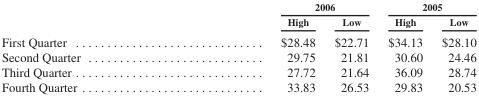table: (0, 0, 475, 93)
table column: (0, 0, 179, 93), (179, 0, 324, 93), (377, 0, 431, 93), (324, 0, 377, 93), (431, 0, 475, 93)
table column header: (0, 0, 475, 30)
table row: (0, 30, 475, 48), (0, 14, 475, 30), (0, 63, 475, 79), (0, 48, 475, 63), (0, 0, 475, 14), (0, 79, 475, 93)
table spanning cell: (179, 0, 377, 14), (377, 0, 475, 14)
